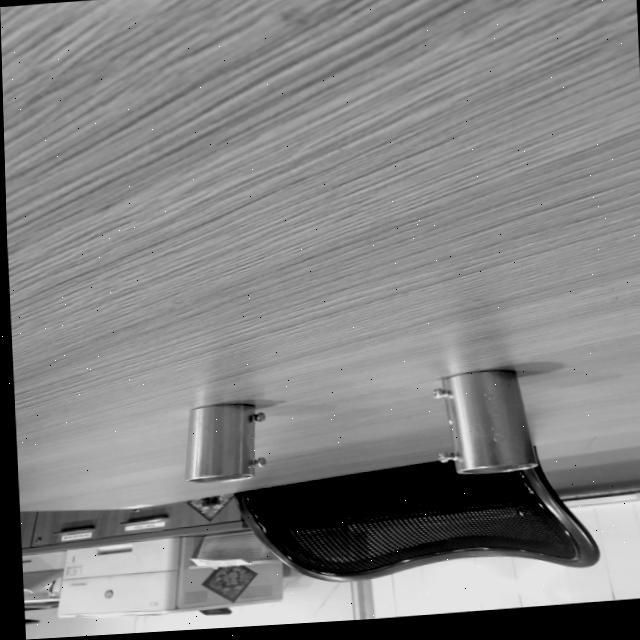Co_Lon: (427, 366, 541, 478)
Co_Nho: (182, 402, 264, 482)
